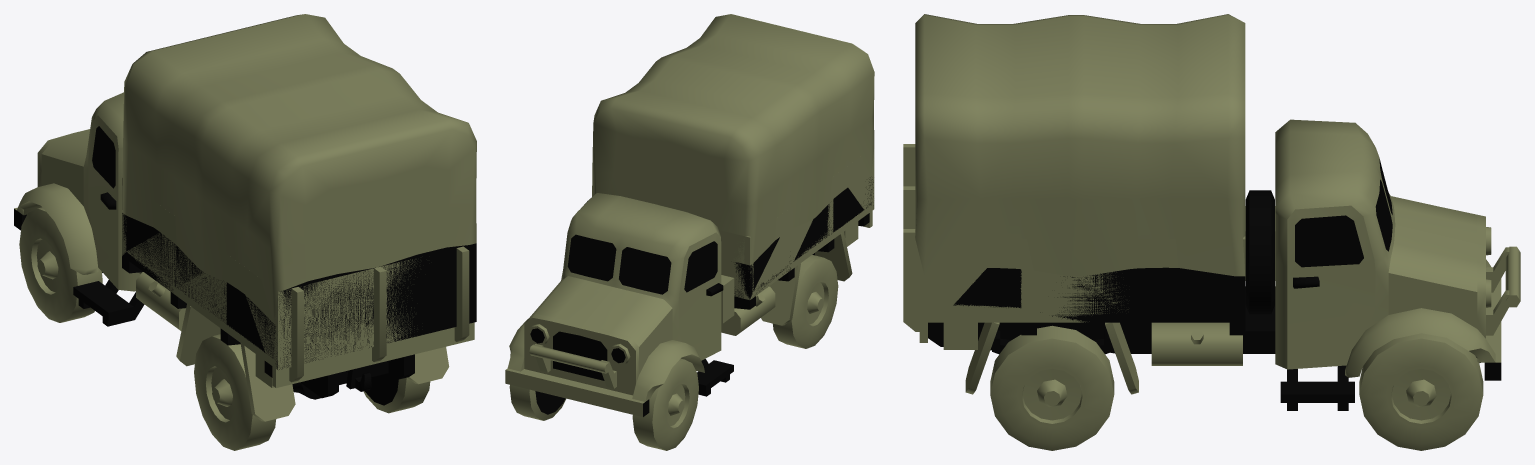
File: Truck_UK_Bedford_OY.fbx
The picture shows the model from 3 angles, left to right: view 1: azimuth 30°, elevation 25°; view 2: azimuth 150°, elevation 25°; view 3: azimuth 270°, elevation 25°; orthographic projection. The views are drawn at different scales.
Visible parts, largest first — view 1: back_canvas, hull, back_open, tire_back, tire_front_l, wheel_back, wheel_front_l; view 2: back_canvas, hull, back_open, tire_front_l, tire_back, wheel_front_l, wheel_back, tire_front_r, wheel_front_r; view 3: back_canvas, hull, back_open, tire_back, tire_front_r, wheel_front_r, wheel_back.
Boxes of the visible parts, x1,y1,x2,y2 form: back_canvas: [122, 14, 476, 369]; hull: [14, 92, 474, 421]; back_open: [122, 177, 469, 382]; tire_back: [194, 334, 430, 450]; tire_front_l: [19, 207, 102, 322]; wheel_back: [204, 363, 398, 425]; wheel_front_l: [29, 235, 61, 297]; back_canvas: [592, 14, 874, 299]; hull: [505, 193, 872, 416]; back_open: [719, 149, 874, 299]; tire_front_l: [632, 358, 698, 450]; tire_back: [773, 255, 838, 348]; wheel_front_l: [665, 381, 690, 430]; wheel_back: [804, 279, 830, 328]; tire_front_r: [509, 385, 565, 420]; wheel_front_r: [535, 391, 565, 414]; back_canvas: [915, 14, 1245, 322]; hull: [919, 119, 1520, 410]; back_open: [903, 144, 1245, 331]; tire_back: [990, 325, 1114, 450]; tire_front_r: [1359, 333, 1483, 450]; wheel_front_r: [1387, 365, 1455, 427]; wheel_back: [1018, 365, 1086, 427].
Bounding box in the file's own units: 279 × 679 × 425.
